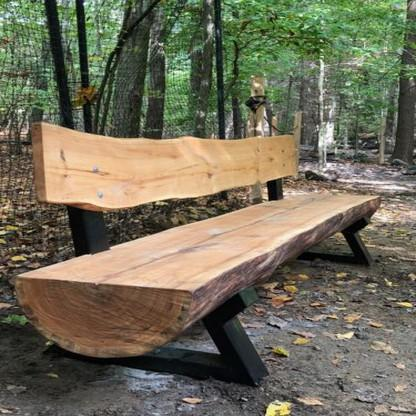obstacle: (11, 99, 383, 411)
